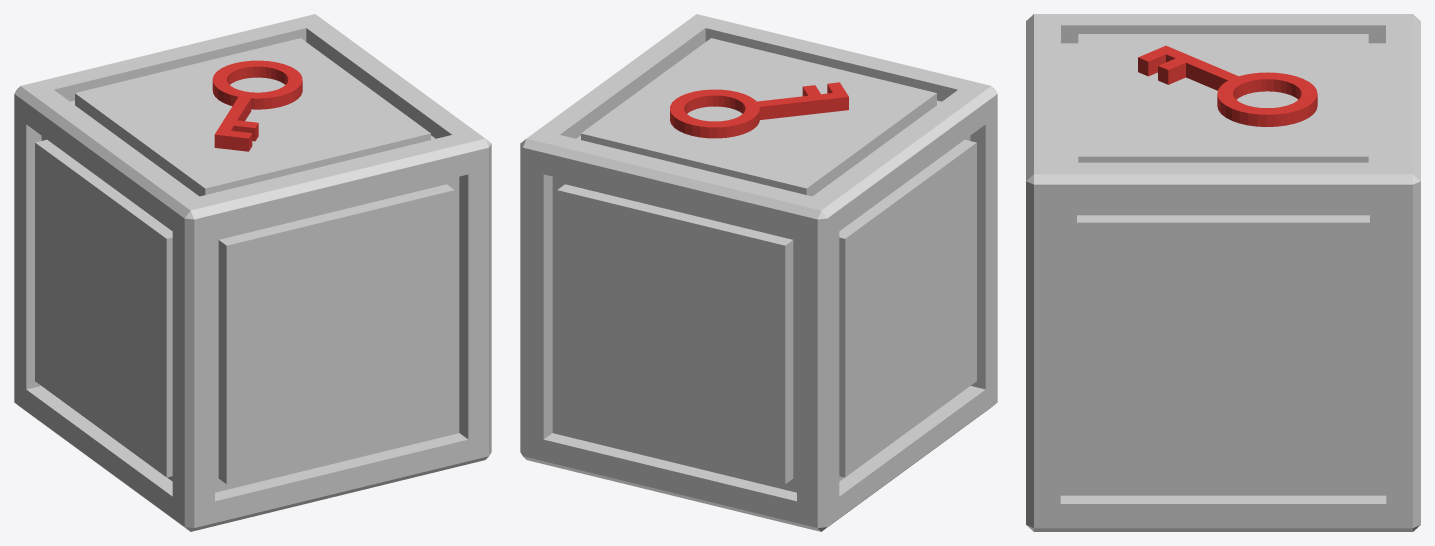
Rendered from Key.fbx.
3 views of the same model, side by side, from view 1: azimuth 30°, elevation 25°; view 2: azimuth 150°, elevation 25°; view 3: azimuth 270°, elevation 25° (orthographic). The views are drawn at different scales.
Visible parts, largest first — view 1: Cube, 円柱; view 2: Cube, 円柱; view 3: Cube, 円柱.
Part boxes in pixels (x1,y1,x2,y2): Cube: (14,14,491,531); 円柱: (212,60,302,151); Cube: (520,14,997,531); 円柱: (670,82,848,138); Cube: (1026,14,1420,531); 円柱: (1138,45,1317,126).
Size of the model in its own units: 200 by 208 by 200.
